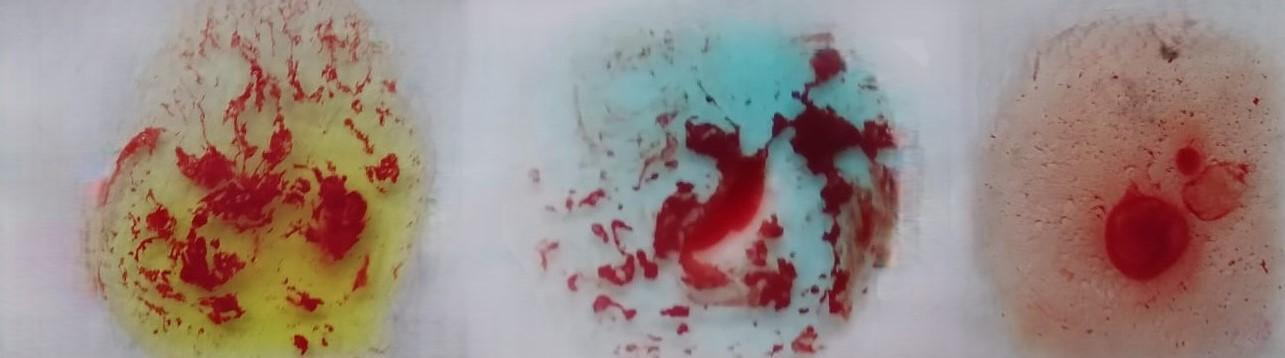A: (548, 15, 890, 358)
B: (106, 15, 387, 358)
D: (978, 18, 1280, 358)
